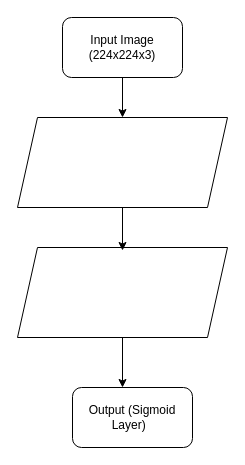
The diagram is 245 pixels wide and 465 high, and some of its shapes have lost their labels. The shapes that lost their labels are listed below. From the top down, each one's centre as x and y in pixels, then its label:
the point at 122,162: CNN Block (VGG16-based) Conv2D Layers MaxPooling GlobalAveragePooling2D
the point at 122,292: Transformer Block Multi-Head Attention Layer Normalization Dense Layers
